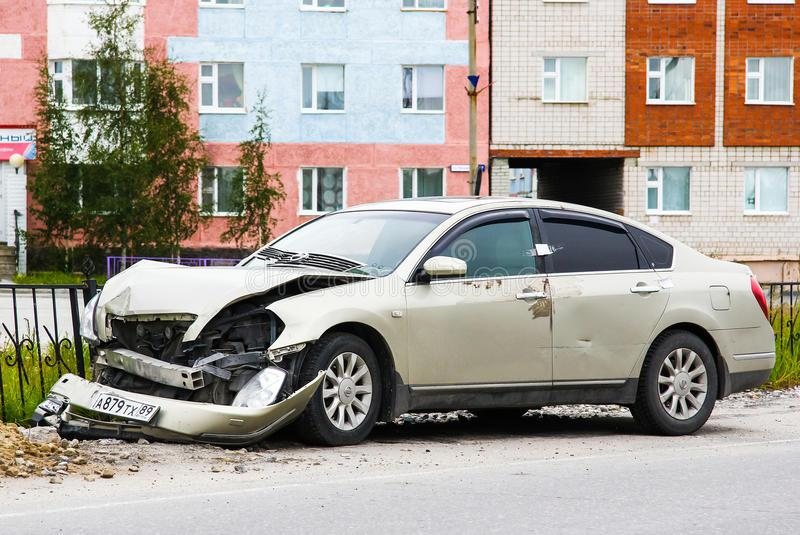bonnet-dent: (77, 253, 277, 326)
doorouter-dent: (411, 279, 556, 389), (553, 278, 663, 380)
fender-dent: (273, 282, 406, 365)
front-bumper-dent: (32, 358, 325, 444)
